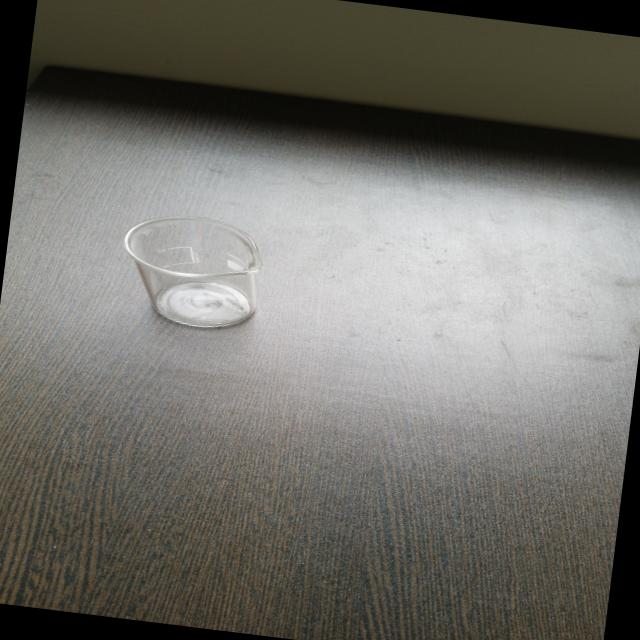beaker: (106, 203, 275, 339)
